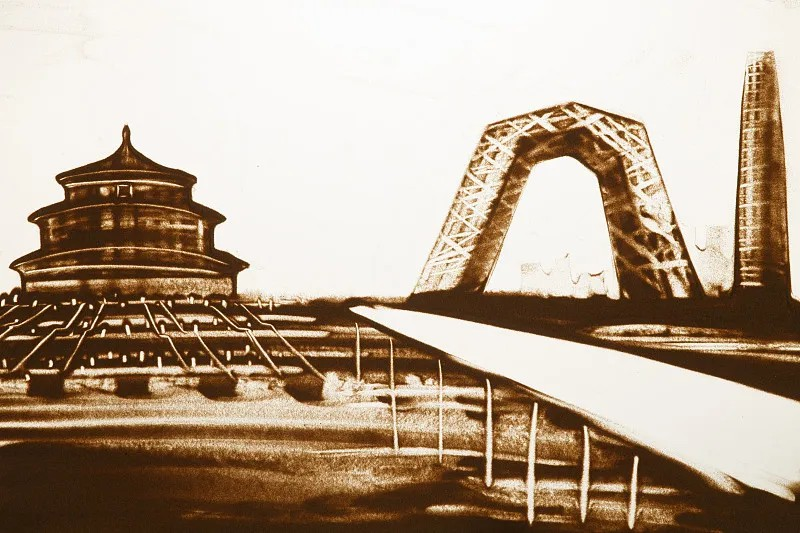Heaven: (10, 125, 250, 299)
